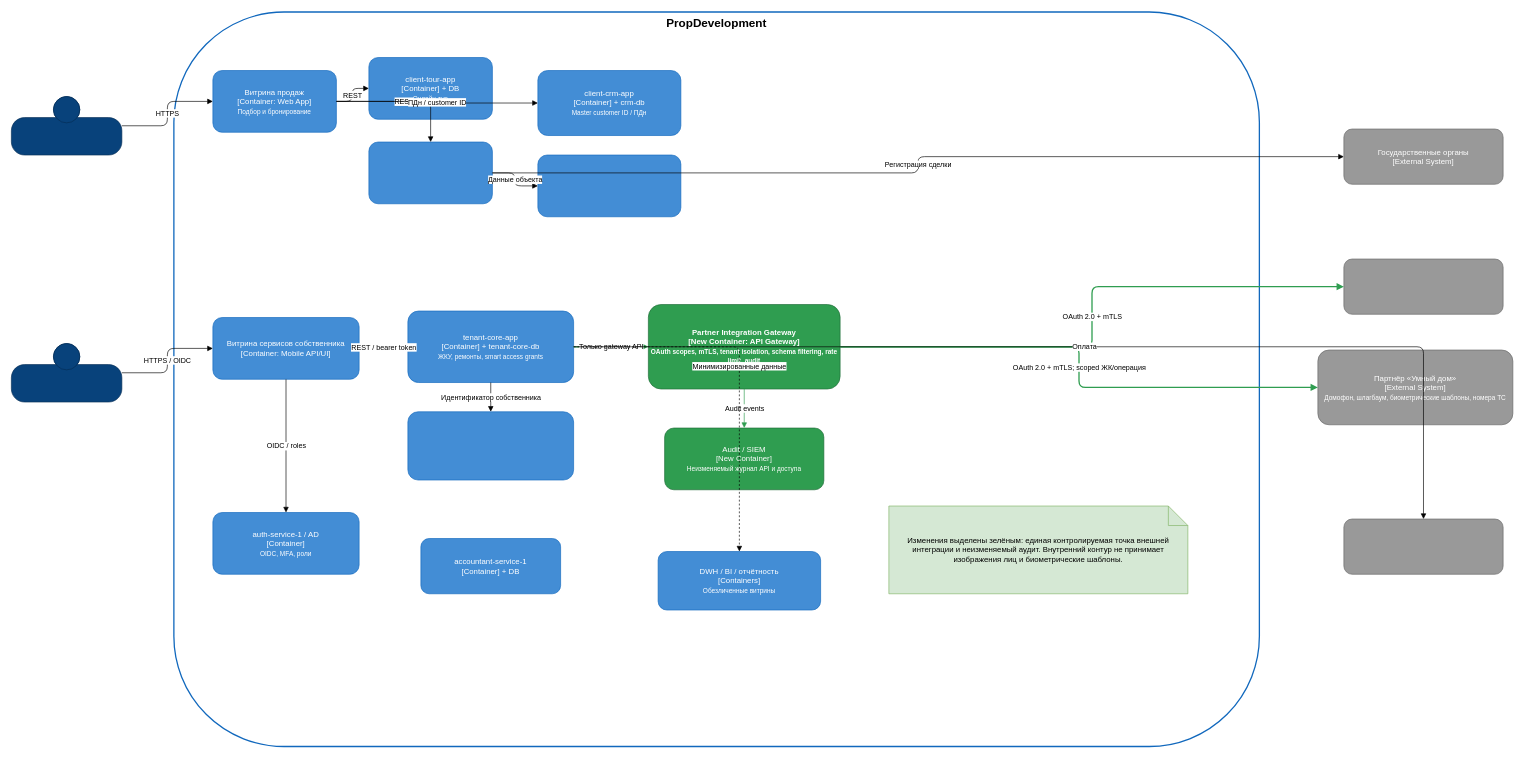
The diagram is 1524 pixels wide and 758 high, and some of its shapes have lost their labels. Here are the shapes that lost their labels. From the top down, the centre of each, then its label:
At (66,125): "Клиент [Person]".
At (430,172): "client-mart-app [Container] + DB Онлайн-сделка".
At (609,185): "client-mart-estate-app [Container] + DB Недвижимость".
At (1423,286): "Поставщик ресурсов ЖКХ [External System]".
At (66,372): "Собственник [Person]".
At (490,445): "CRM собственников [Container] + crm-tenant-db ПДн собственников".
At (1423,546): "Платёжная система [External System]".
